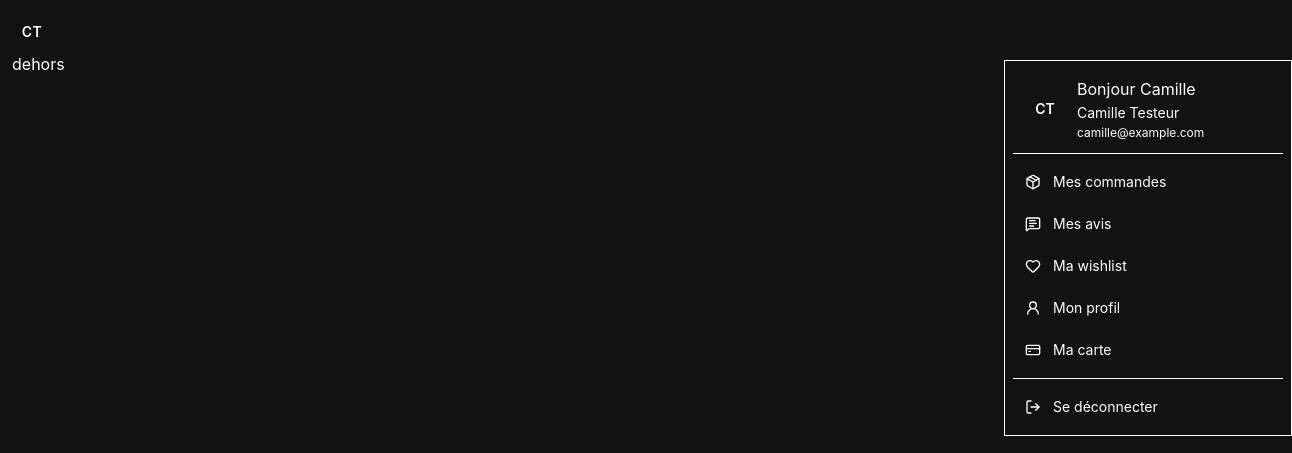
Test: AccountMenu signed in › opens with Enter and closes on a press outside
This screenshot has width=1292, height=453.
Press Enter
Expected: the text "Camille Testeur" is shown, [1077,104,1179,121]
Click the text "dehors" at (38, 64), box [12,54,65,74]
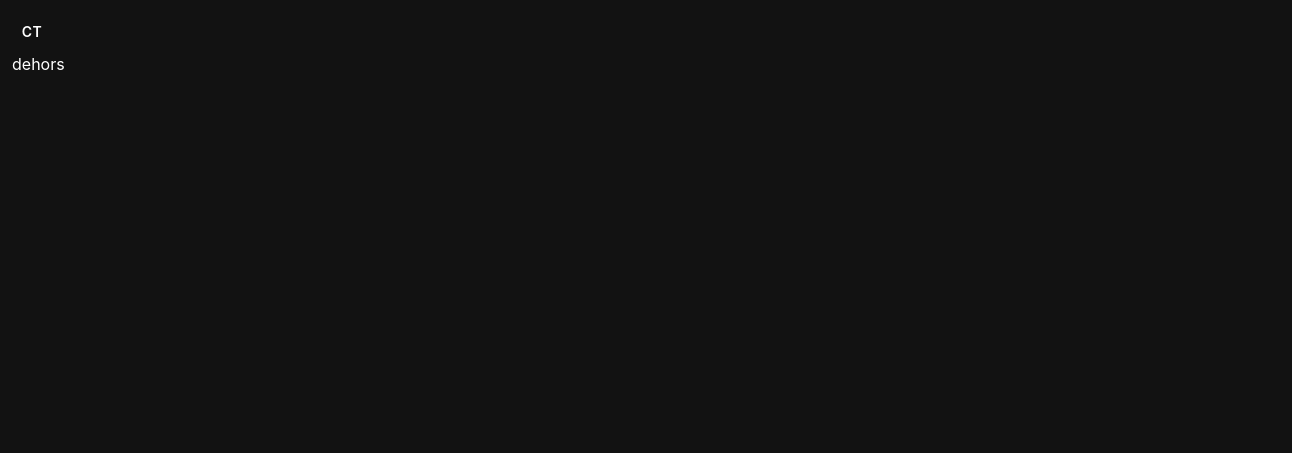
Now the text with test id "account-name" is gone
